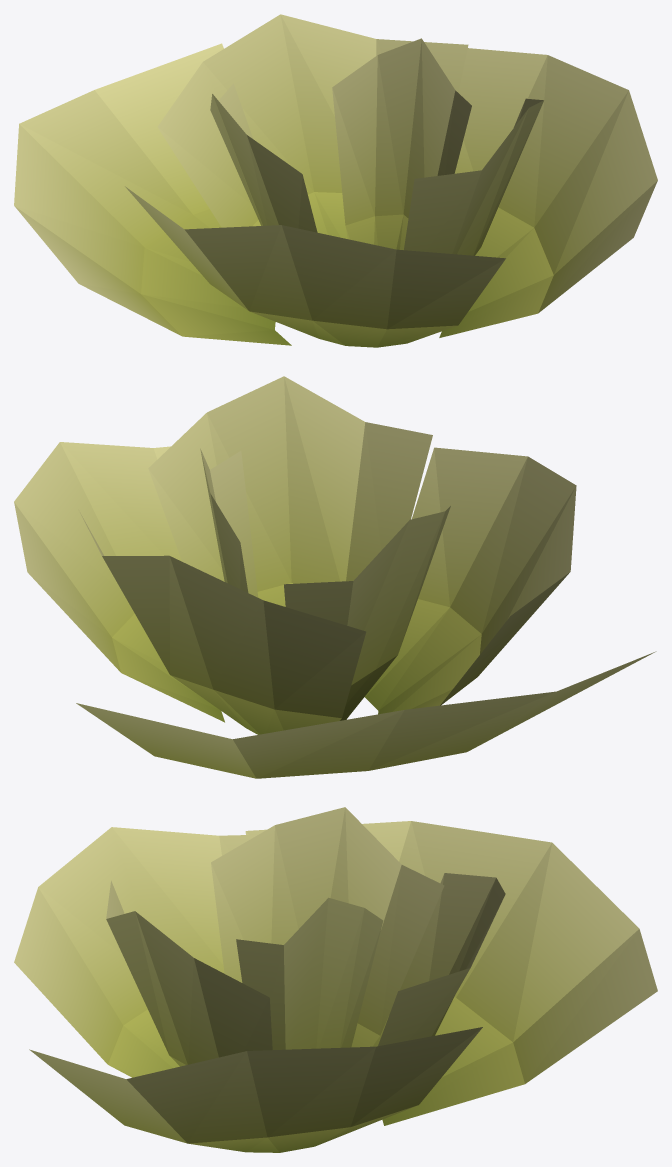
The model's file is coral-lettuce.glb.
3 views of the same model, one above another, from view 1: azimuth 30°, elevation 25°; view 2: azimuth 150°, elevation 25°; view 3: azimuth 270°, elevation 25° (orthographic). The views are drawn at different scales.
Parts seen in each view (by area): view 1: coral-lettuce_mesh; view 2: coral-lettuce_mesh; view 3: coral-lettuce_mesh.
Part boxes in pixels (x1=…): coral-lettuce_mesh: x1=14, y1=14, x2=657, y2=347; coral-lettuce_mesh: x1=14, y1=376, x2=656, y2=778; coral-lettuce_mesh: x1=14, y1=807, x2=657, y2=1152.
Size of the model in its own units: 3.15 by 1.38 by 3.04.
